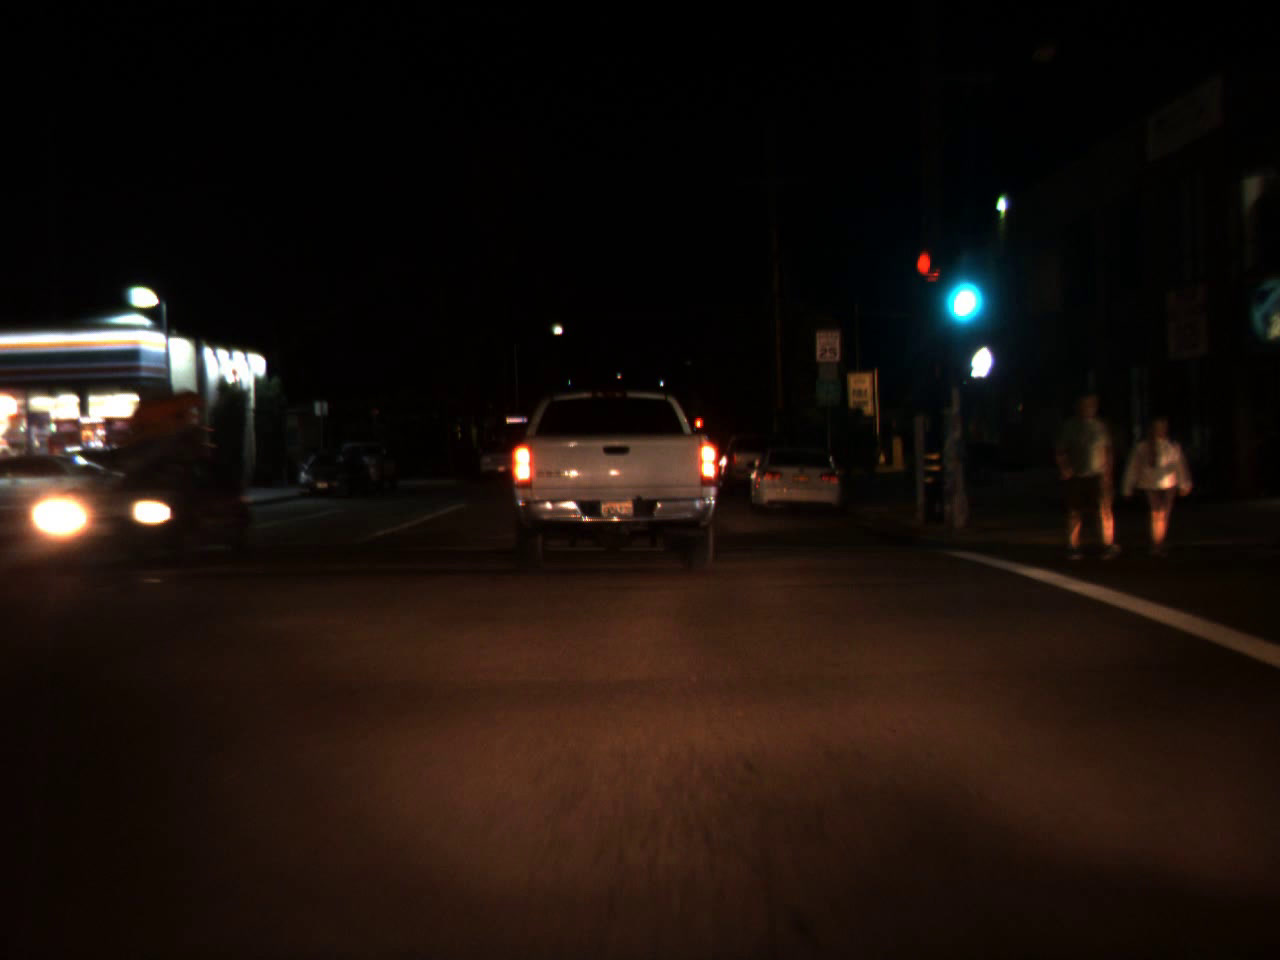go: (934, 243, 984, 330)
stop: (695, 418, 701, 431)
